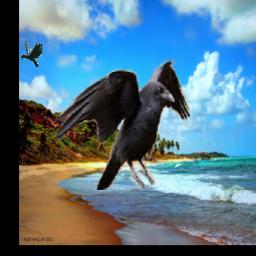Crow: (53, 60, 190, 191), (22, 41, 43, 68)
